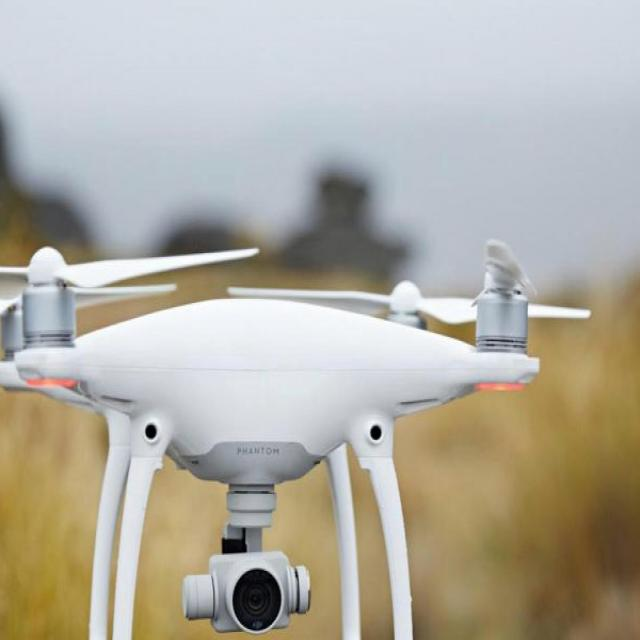drone: (0, 218, 640, 529)
